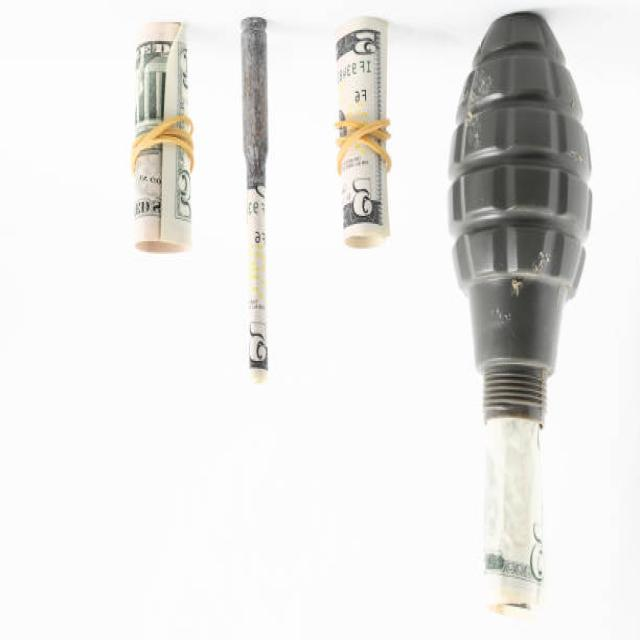grenade: (445, 10, 600, 433)
